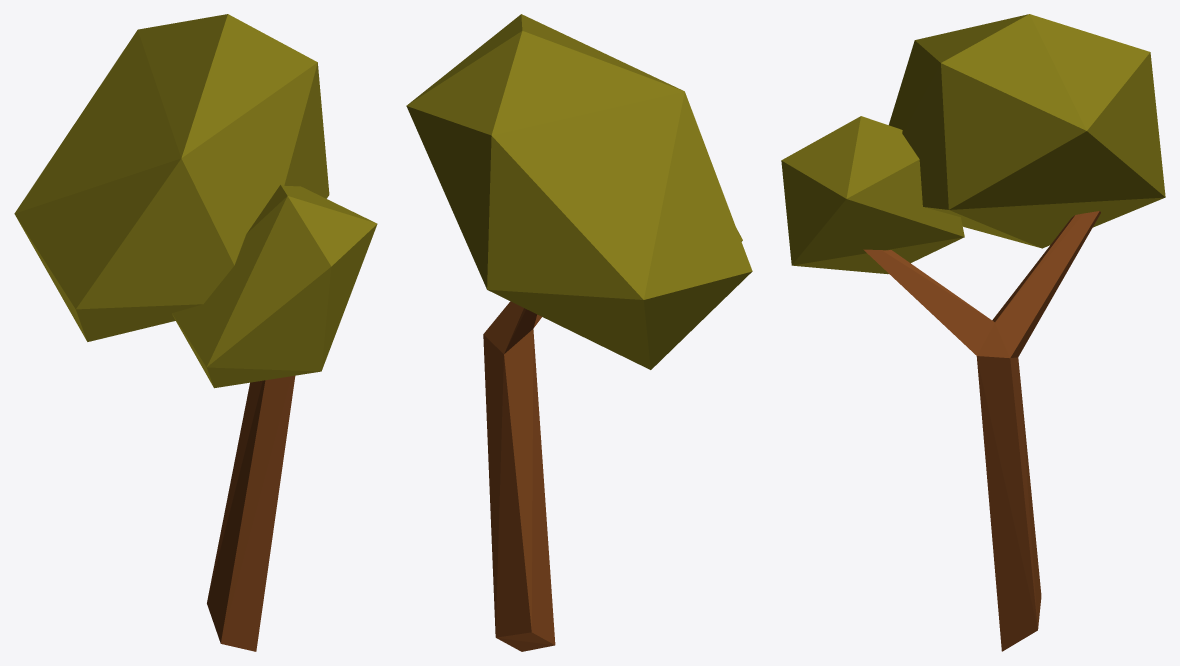
Rendered from BlobTree1.fbx.
3 views of the same model, side by side, from view 1: azimuth 30°, elevation 25°; view 2: azimuth 150°, elevation 25°; view 3: azimuth 270°, elevation 25° (orthographic).
Visible parts, largest first — view 1: BlobTree1; view 2: BlobTree1; view 3: BlobTree1.
Boxes of the visible parts, <box> form: BlobTree1: <box>14,14,377,651</box>; BlobTree1: <box>406,14,752,651</box>; BlobTree1: <box>781,14,1165,651</box>.
Size of the model in its own units: 84.77 by 184 by 102.
